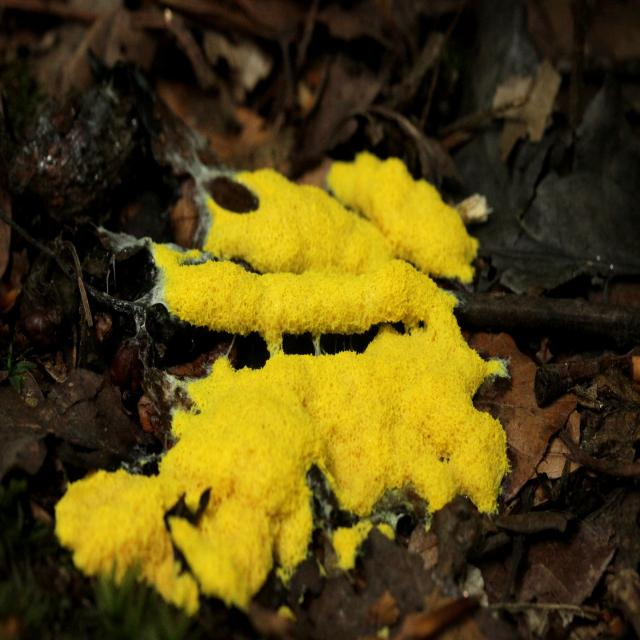Dog_vomit_slime_mold: (55, 113, 574, 640)
